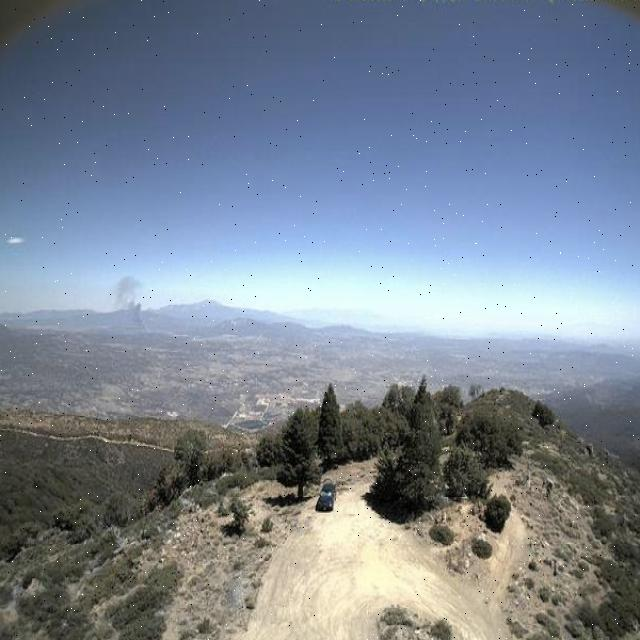smoke: (109, 269, 159, 338)
